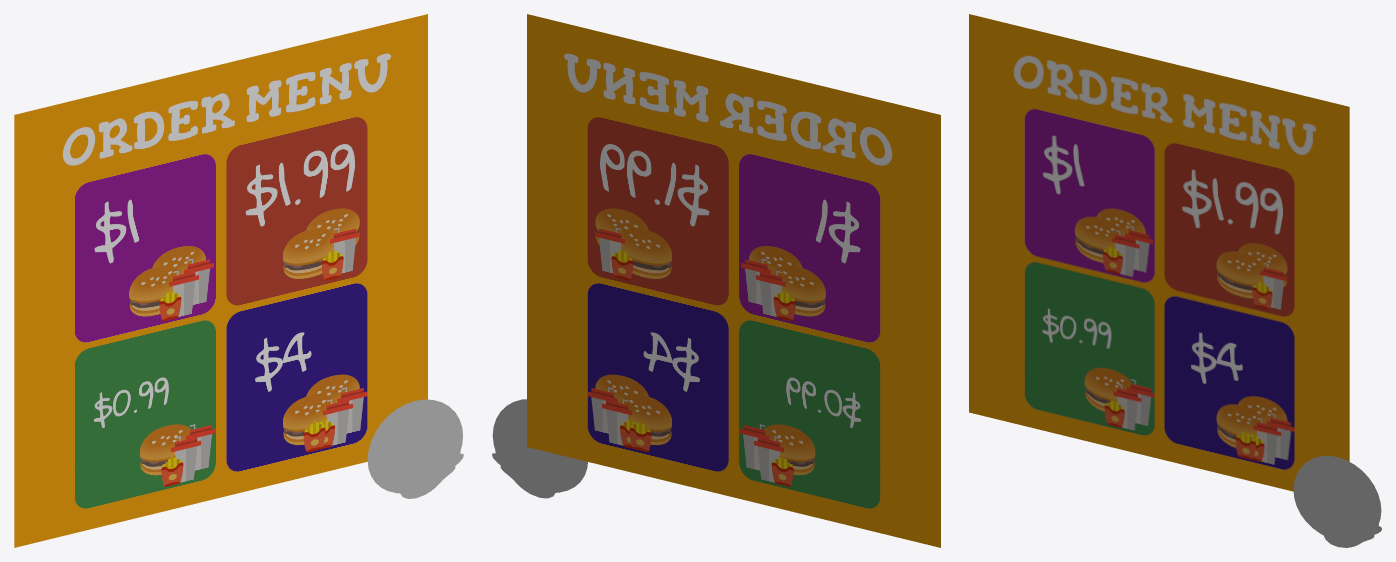
File: menu.fbx
The picture shows the model from 3 angles, left to right: view 1: azimuth 30°, elevation 25°; view 2: azimuth 150°, elevation 25°; view 3: azimuth 330°, elevation 25°; orthographic projection. The views are drawn at different scales.
Visible parts, largest first — view 1: Plane; view 2: Plane; view 3: Plane.
Boxes of the visible parts, box(x1,y1,x2,y2) form: Plane: box(14, 14, 463, 547); Plane: box(492, 14, 940, 547); Plane: box(969, 14, 1381, 547).
Size of the model in its own units: 405 by 415 by 0.5997.
